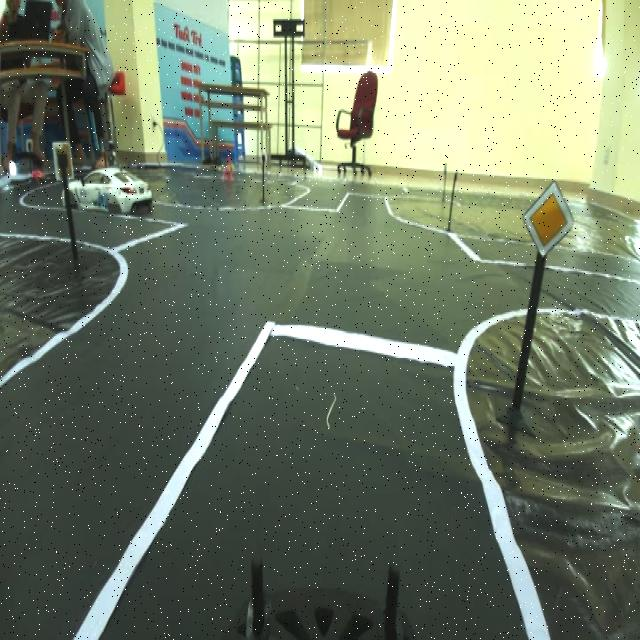priority: (514, 183, 580, 267)
